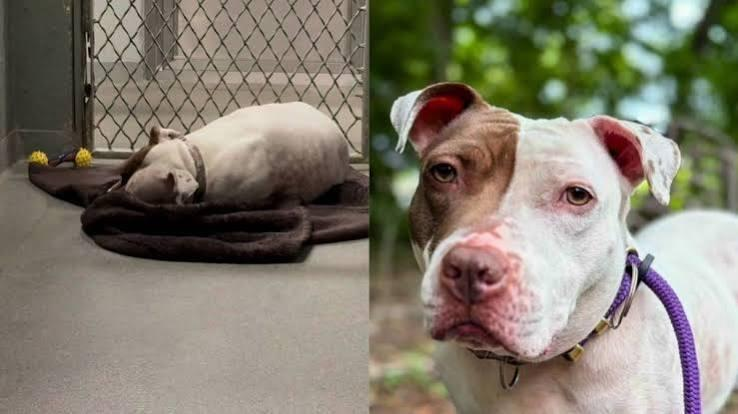adult_dog: (386, 82, 738, 414), (85, 99, 353, 210)
